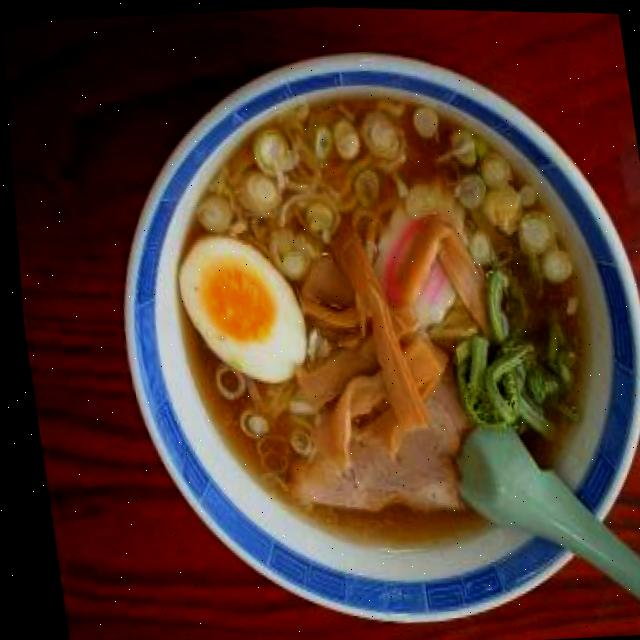面条主食: (76, 22, 640, 640)
